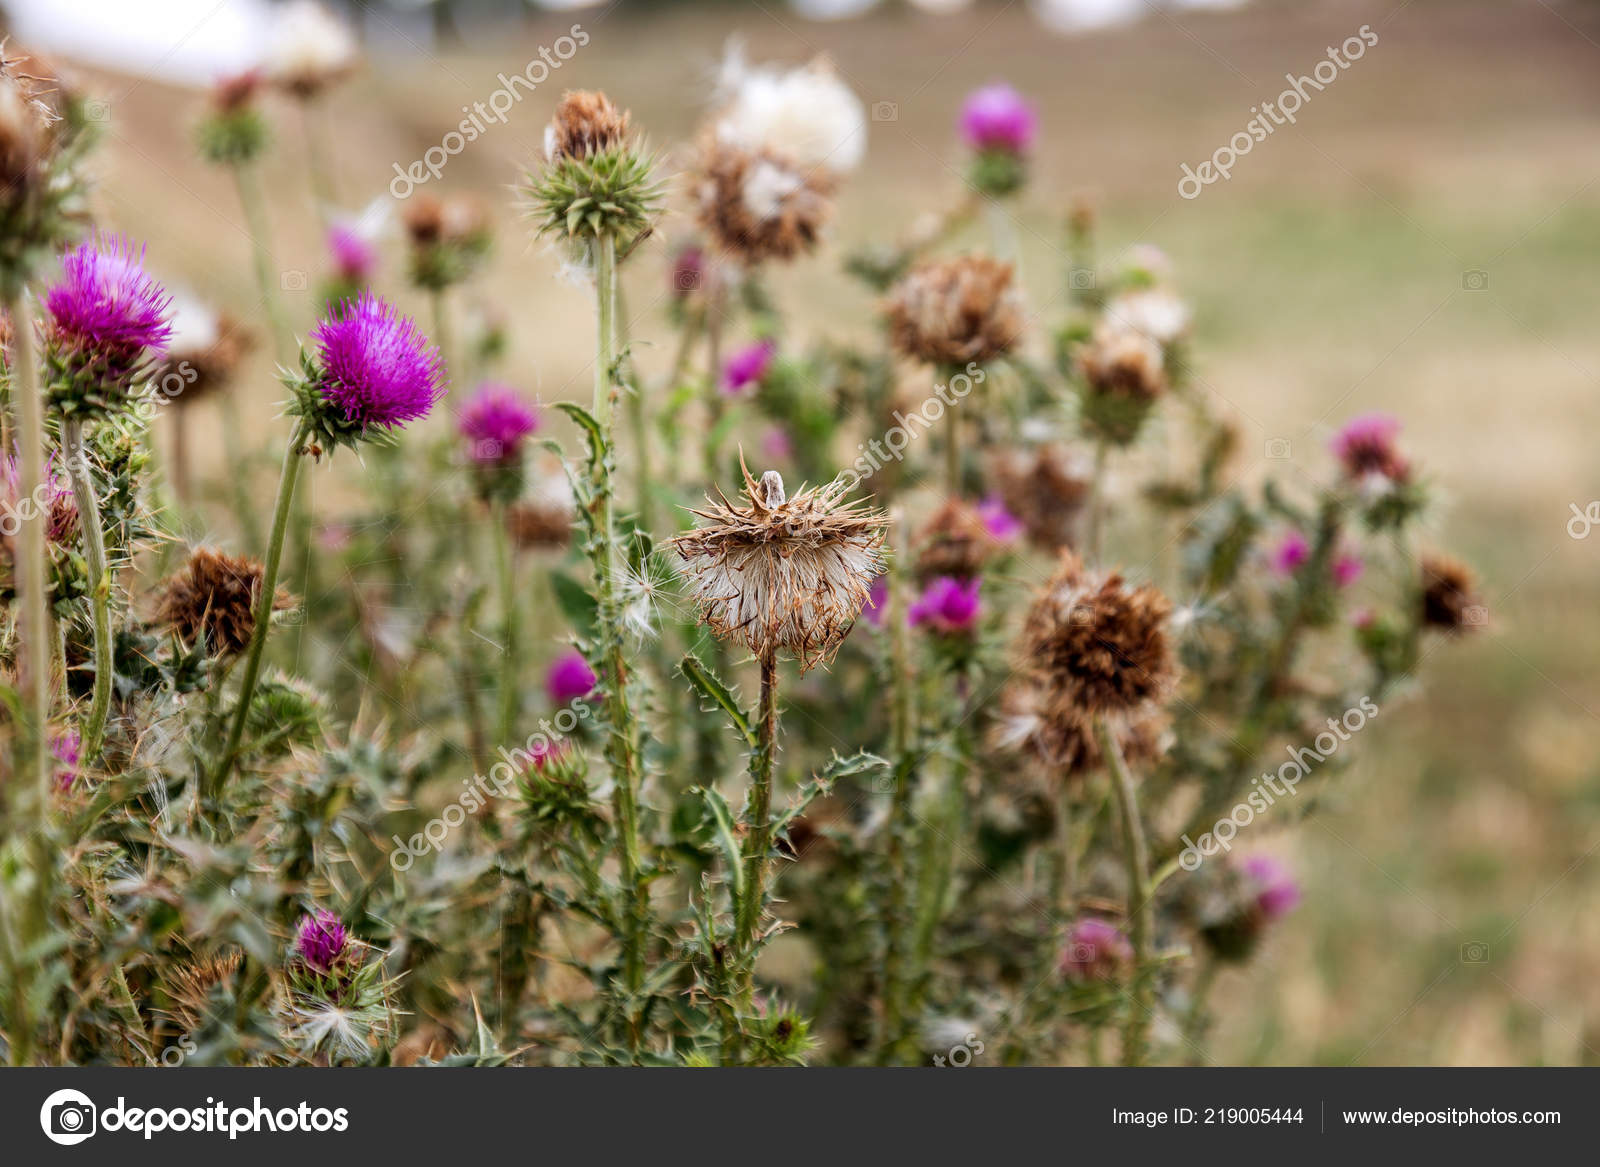thistle: (29, 245, 179, 437), (289, 300, 448, 474), (283, 913, 393, 1029)
